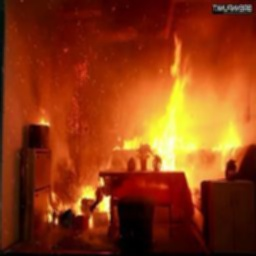fire: (97, 27, 254, 186)
